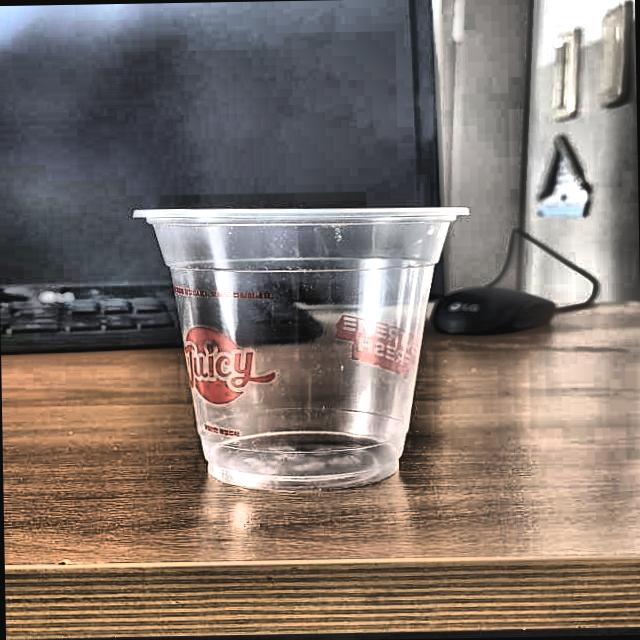plastic cup: (132, 200, 474, 490)
